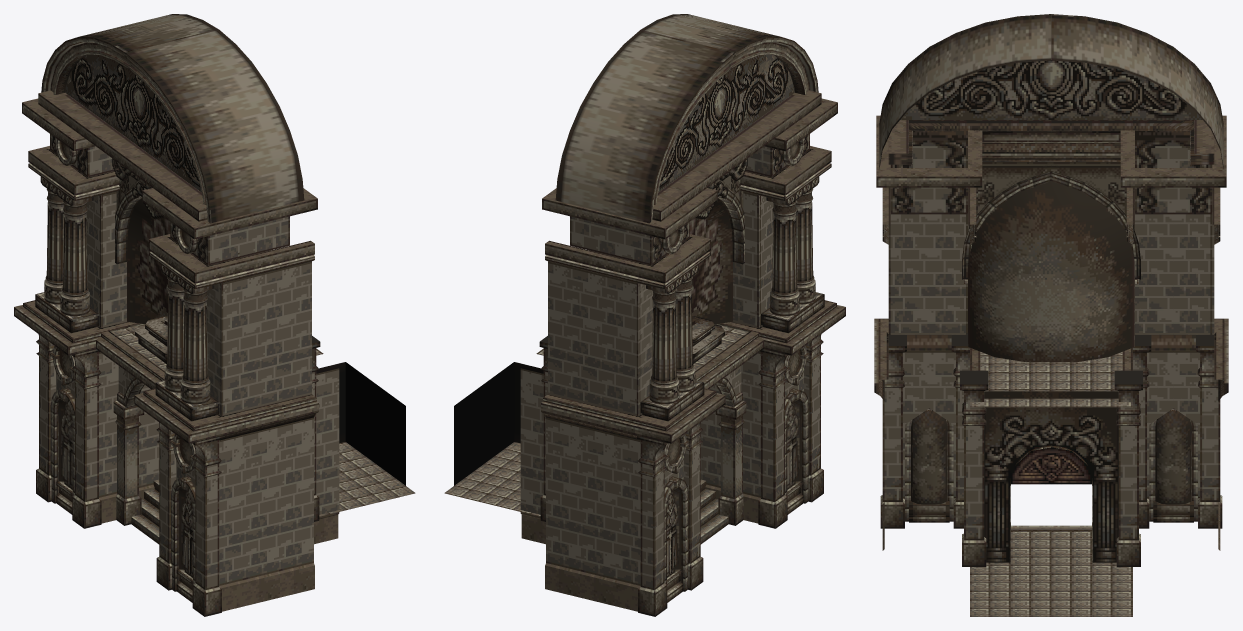
File: EnvBdgMD_Theater_A_Outdoor_Gate.FBX
3 views of the same model, side by side, from view 1: azimuth 30°, elevation 25°; view 2: azimuth 150°, elevation 25°; view 3: azimuth 270°, elevation 25° (orthographic).
Visible parts, largest first — view 1: EnvBdgMD_Theater_A_Outdoor_Gate; view 2: EnvBdgMD_Theater_A_Outdoor_Gate; view 3: EnvBdgMD_Theater_A_Outdoor_Gate.
Part boxes in pixels (x1=…): EnvBdgMD_Theater_A_Outdoor_Gate: x1=14, y1=14, x2=415, y2=616; EnvBdgMD_Theater_A_Outdoor_Gate: x1=444, y1=14, x2=845, y2=616; EnvBdgMD_Theater_A_Outdoor_Gate: x1=874, y1=14, x2=1228, y2=616.
Size of the model in its own units: 790 by 1379 by 870.
Materials: 1 (1 with a texture image).
